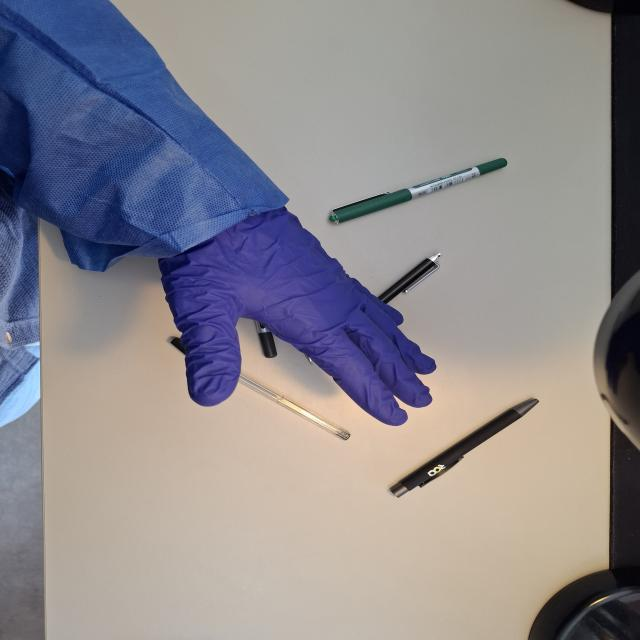glove_on: (152, 198, 442, 428)
